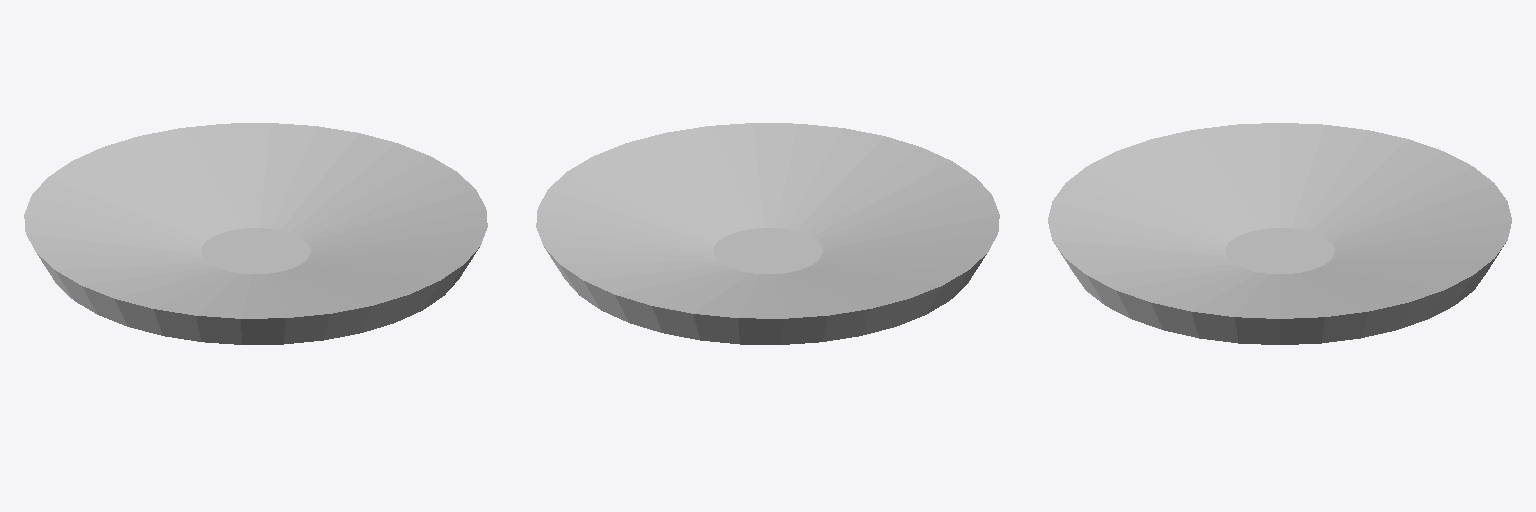
The model's file is dish.obj.
3 views of the same model, side by side, from view 1: azimuth 30°, elevation 25°; view 2: azimuth 150°, elevation 25°; view 3: azimuth 270°, elevation 25° (orthographic).
Visible parts, largest first — view 1: Cylinder; view 2: Cylinder; view 3: Cylinder.
Boxes of the visible parts, box(x1,y1,x2,y2) form: Cylinder: box(24, 123, 487, 344); Cylinder: box(536, 123, 999, 344); Cylinder: box(1048, 123, 1511, 344).
Bounding box in the file's own units: 3 × 0.5 × 3.